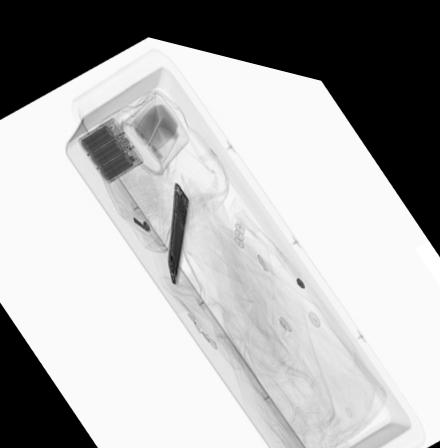Powerbank: (75, 109, 146, 181)
